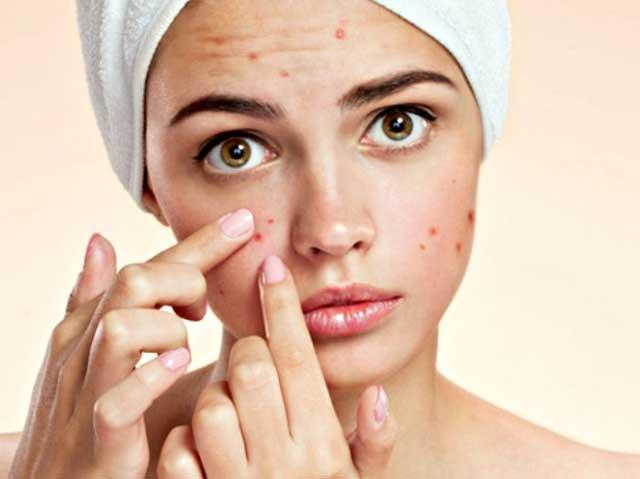Acne: (209, 22, 347, 82), (410, 205, 477, 267), (250, 214, 278, 248)
